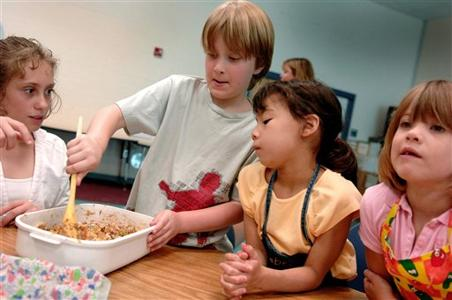person: (62, 2, 279, 252)
